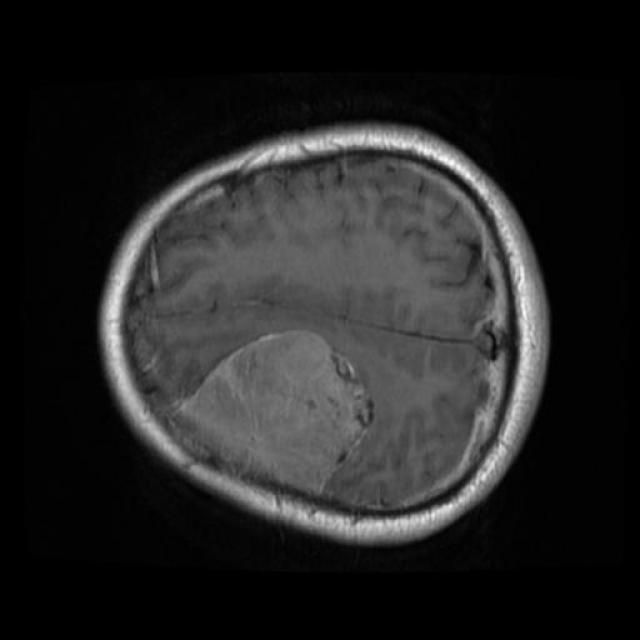Meningioma: (180, 330, 373, 493)
